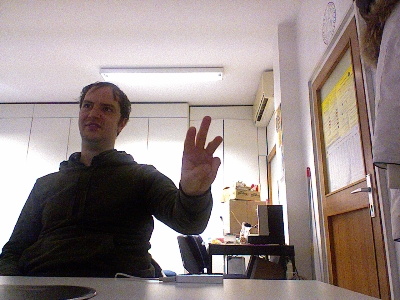三分: (179, 114, 223, 195)
